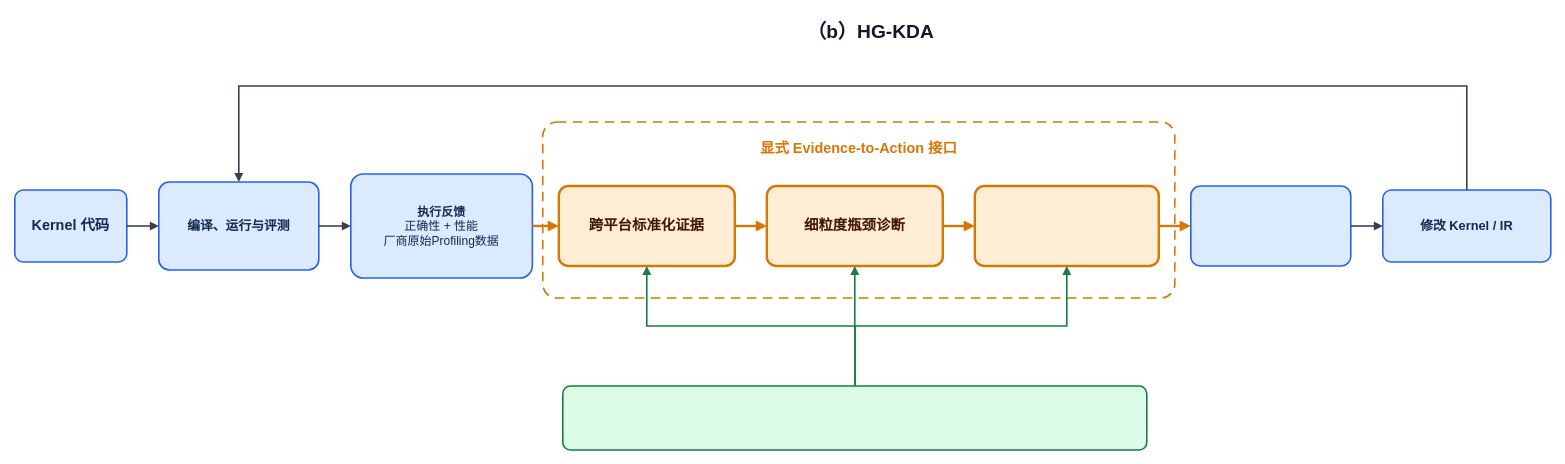
Image size: 1565x464. Some labels were removed from this diagram. The centre of each missing label's shape, as x and y in pixels:
Kernel Agent: the point at 1270,225
条件触发的候选动作: the point at 1066,225
硬件 Grounding 白盒XSAI · 灰盒国产卡: the point at 854,417
